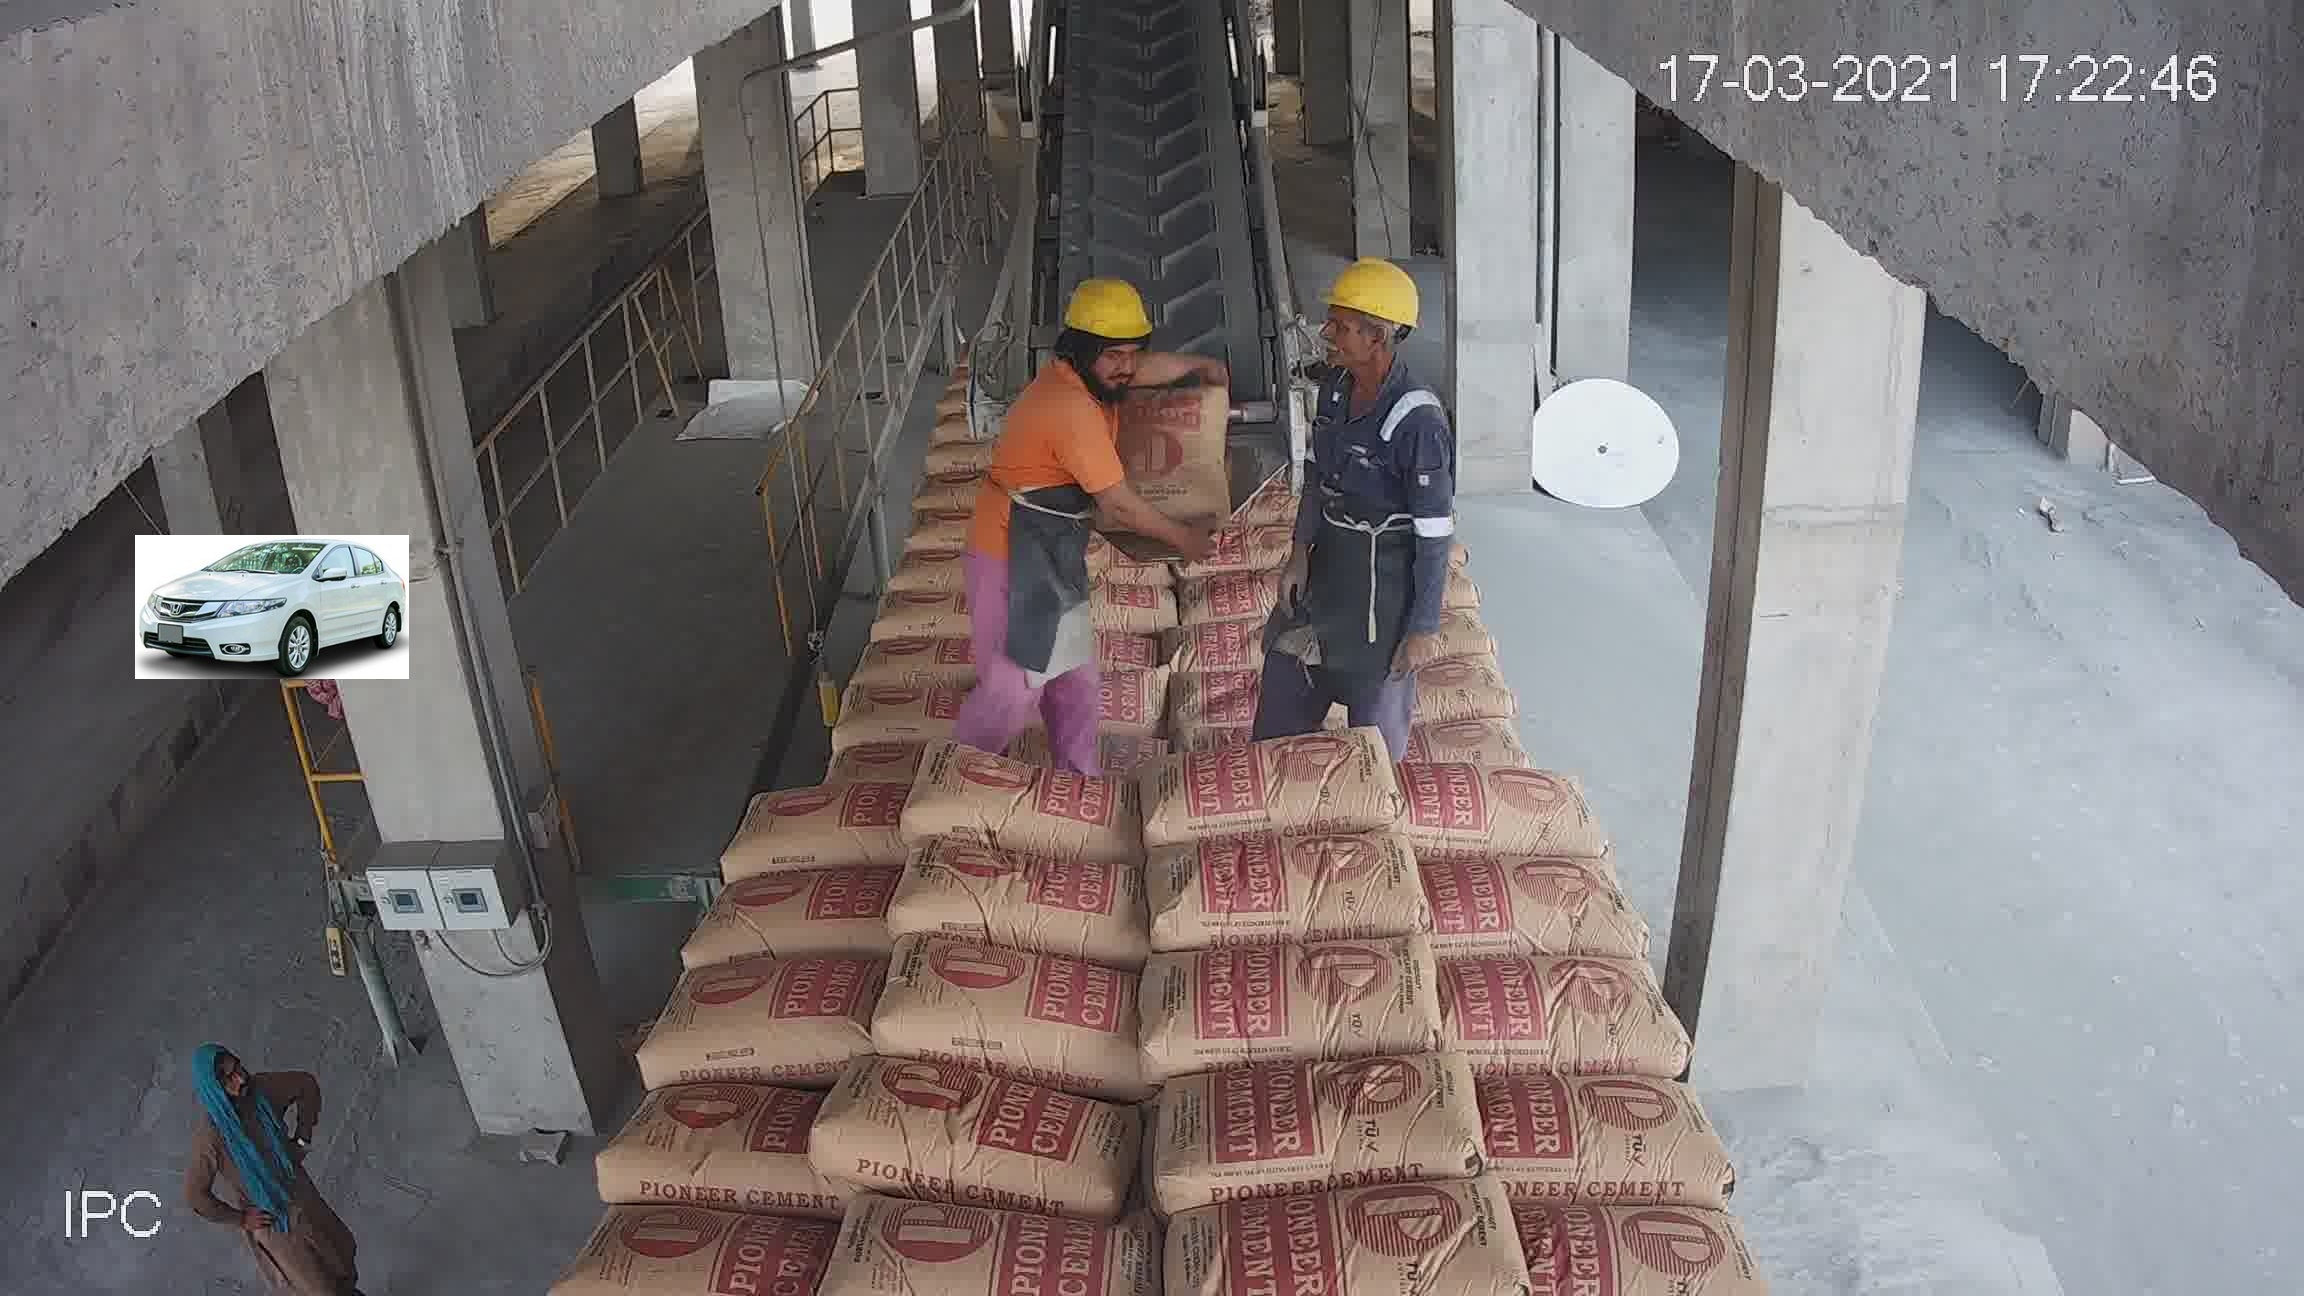bag: (1090, 218, 1234, 350), (1290, 487, 1468, 584)
bag_h: (1138, 1048, 1487, 1203), (1119, 929, 1470, 1060), (1161, 1169, 1522, 1296), (1133, 812, 1453, 949), (801, 1109, 1173, 1218), (855, 946, 1152, 1071), (1472, 1071, 1755, 1199), (578, 1078, 862, 1203), (619, 956, 885, 1081), (878, 839, 1139, 961), (1146, 726, 1407, 847), (1437, 949, 1662, 1081), (824, 1225, 1195, 1296), (1508, 1199, 1769, 1296), (907, 767, 1157, 858), (663, 870, 900, 965), (1437, 859, 1646, 964), (585, 1214, 847, 1296), (937, 668, 1143, 769), (1168, 578, 1389, 669), (1160, 661, 1343, 752), (718, 779, 888, 872), (1419, 755, 1573, 856), (959, 612, 1166, 687), (779, 627, 957, 711), (1374, 606, 1540, 696), (739, 717, 916, 790), (1391, 688, 1571, 760), (1057, 487, 1166, 544), (1086, 574, 1188, 622), (1086, 527, 1179, 579), (1188, 475, 1264, 530)
belt: (1029, 21, 1272, 457)
